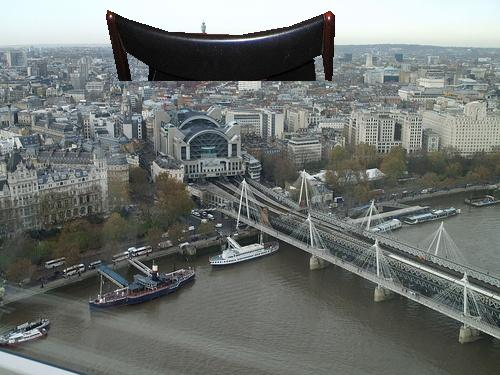tampered: (107, 11, 335, 81)
